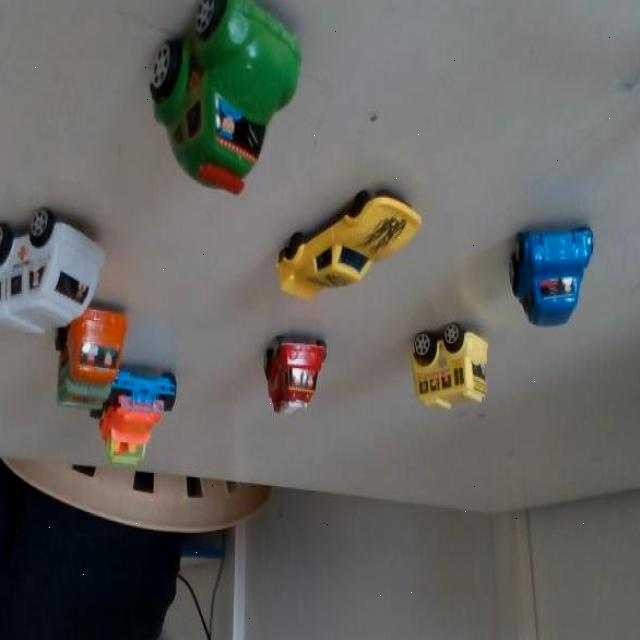car: (139, 0, 315, 196), (0, 185, 119, 355), (278, 178, 420, 310), (401, 310, 490, 412), (102, 366, 186, 474), (514, 218, 596, 327), (251, 318, 328, 427), (56, 301, 124, 421)
